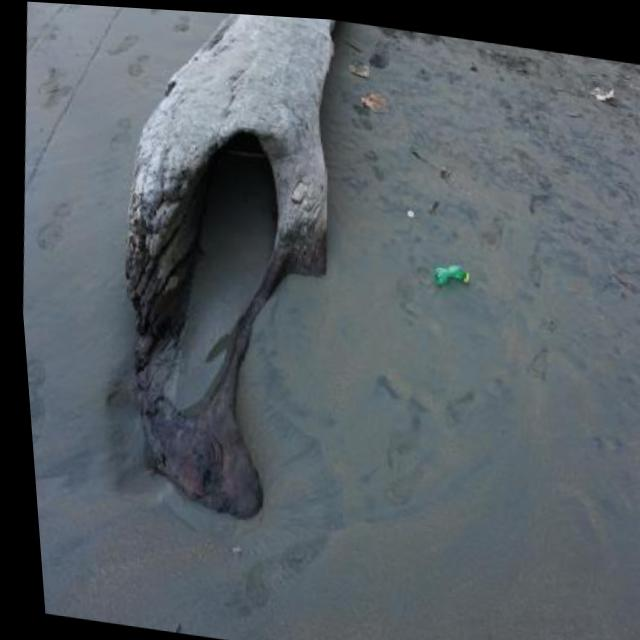plastic: (432, 261, 470, 289), (406, 209, 414, 218)
